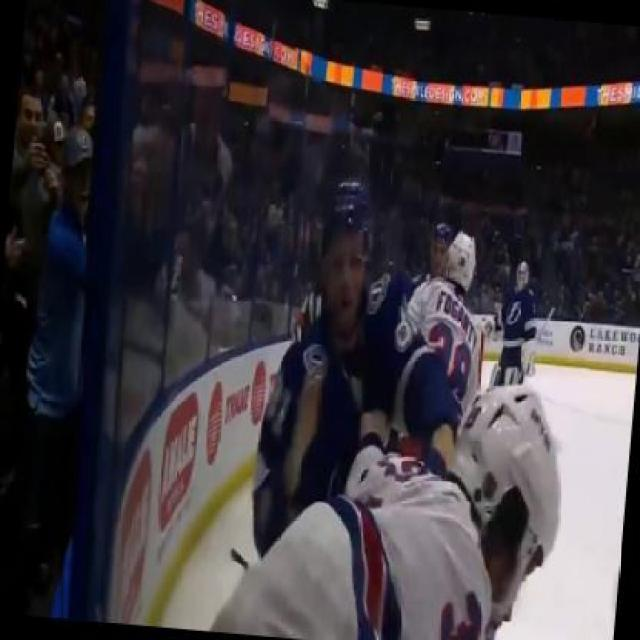fight: (238, 171, 574, 638)
